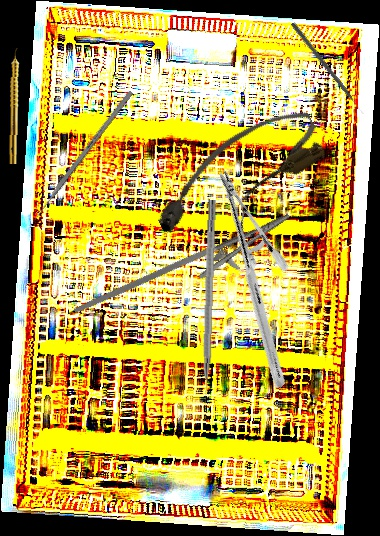Cannula: (139, 98, 332, 245)
Handpiece: (8, 47, 22, 165)
Hook Surgical: (198, 199, 218, 412)
Needle Holder: (141, 167, 363, 391), (72, 187, 301, 355)
Pusher: (28, 89, 134, 227), (289, 21, 366, 117)
